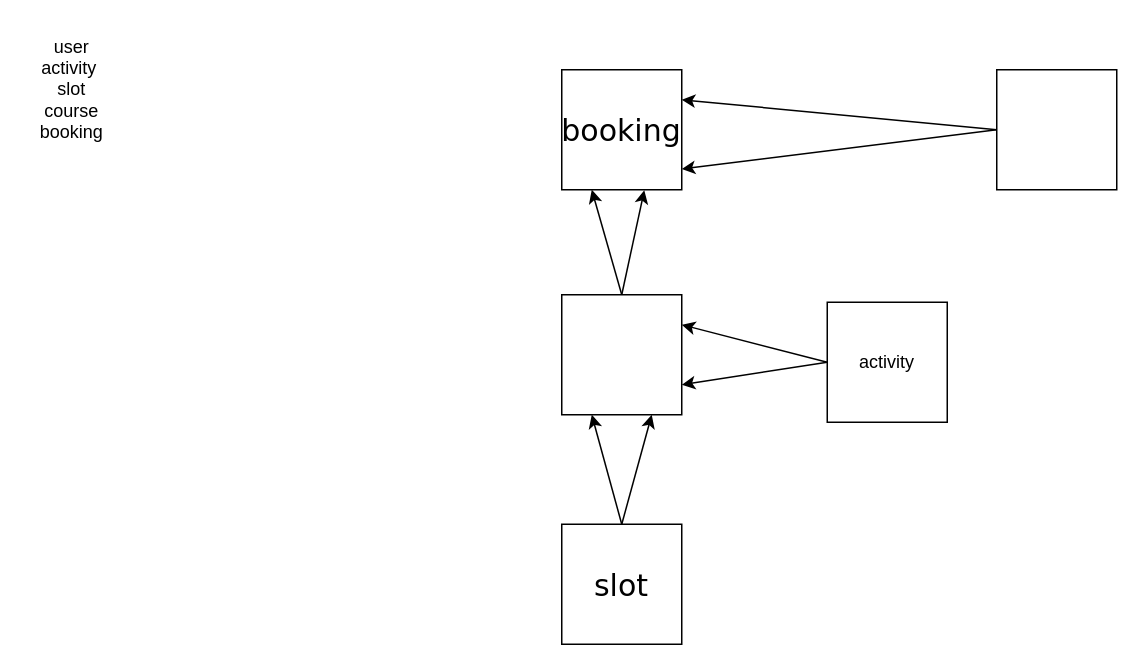
This 1143x671 diagram has some shape labels left out. The shapes that lost their labels are listed below. From the top down, each one's box as (x1, y1, x2, y2) in pixels, then its label:
(995, 68, 1117, 190): user
(560, 293, 682, 415): course
